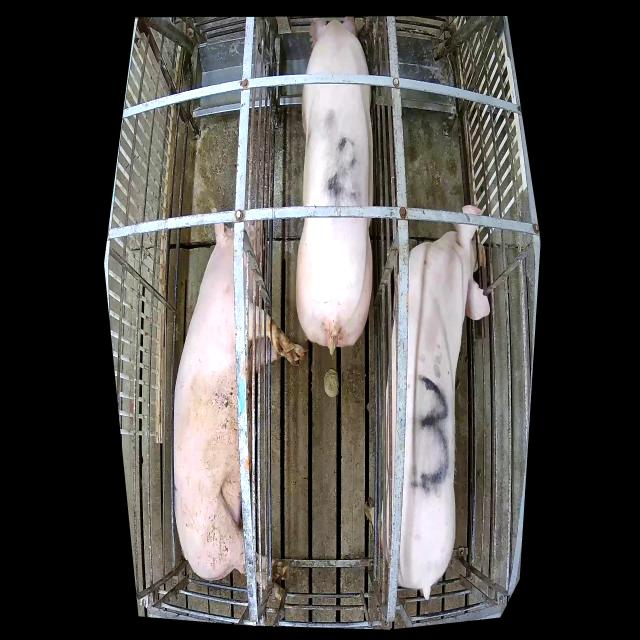pig: (174, 207, 308, 601), (365, 207, 490, 601), (296, 19, 373, 355)
